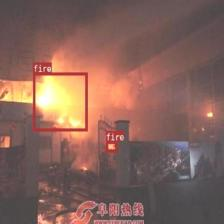fire: (32, 72, 87, 131), (106, 141, 116, 152)
